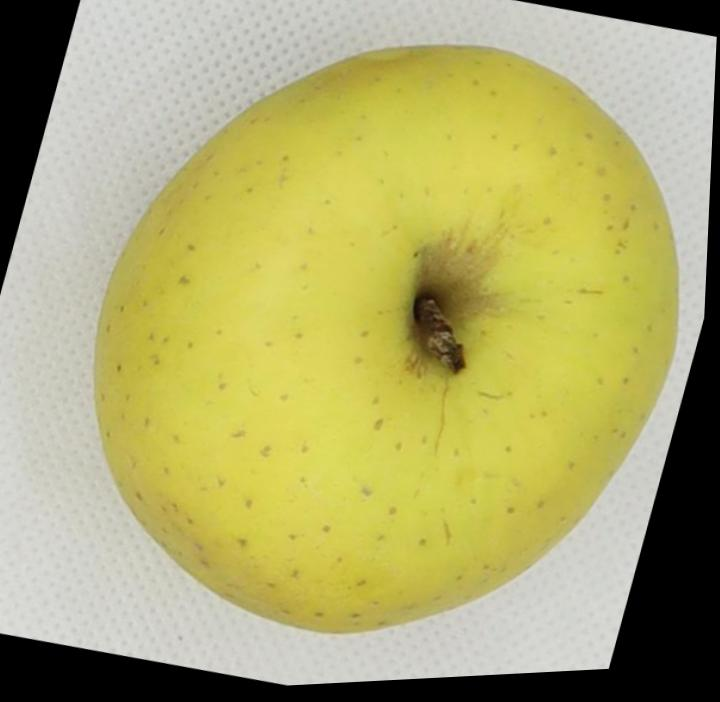apple: (95, 43, 678, 631)
